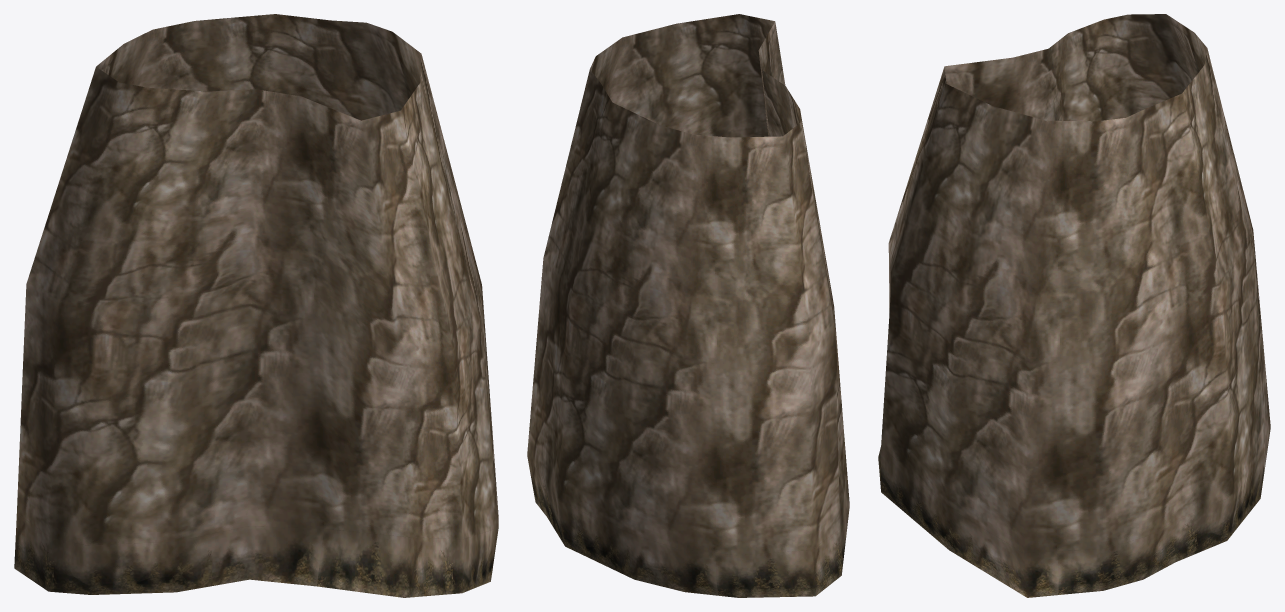
File: OVERHILL_A_01_LINE252.fbx
3 views of the same model, side by side, from view 1: azimuth 30°, elevation 25°; view 2: azimuth 150°, elevation 25°; view 3: azimuth 270°, elevation 25° (orthographic). The views are drawn at different scales.
Parts seen in each view (by area): view 1: OVERHILL_A_01_LINE252; view 2: OVERHILL_A_01_LINE252; view 3: OVERHILL_A_01_LINE252.
Boxes of the visible parts, x1,y1,x2,y2 form: OVERHILL_A_01_LINE252: [14, 14, 498, 597]; OVERHILL_A_01_LINE252: [527, 14, 849, 597]; OVERHILL_A_01_LINE252: [878, 14, 1270, 597].
Size of the model in its own units: 57038 by 74124 by 57818.
Materials: 2 (2 with a texture image).
